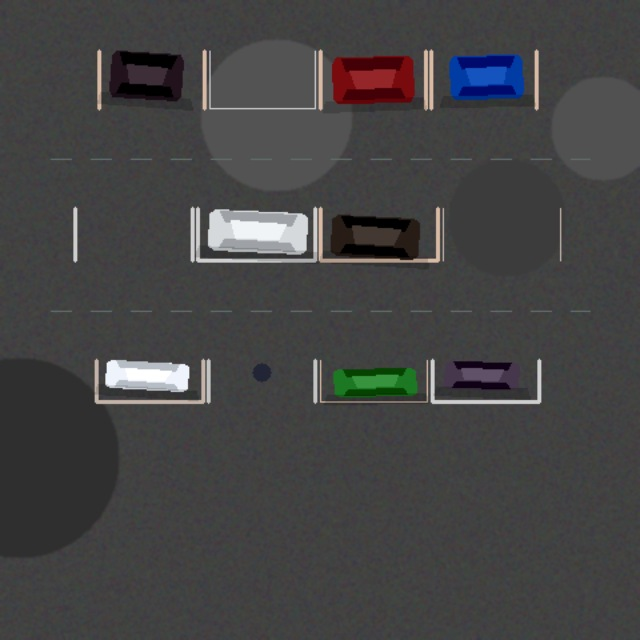space-empty: (75, 208, 192, 260), (443, 208, 560, 260), (209, 51, 315, 108), (208, 360, 315, 401)
space-occupied: (197, 208, 315, 260), (320, 208, 437, 260), (99, 51, 204, 108), (320, 51, 425, 108), (431, 51, 536, 108), (96, 360, 203, 401), (320, 360, 427, 401), (432, 360, 539, 401)
